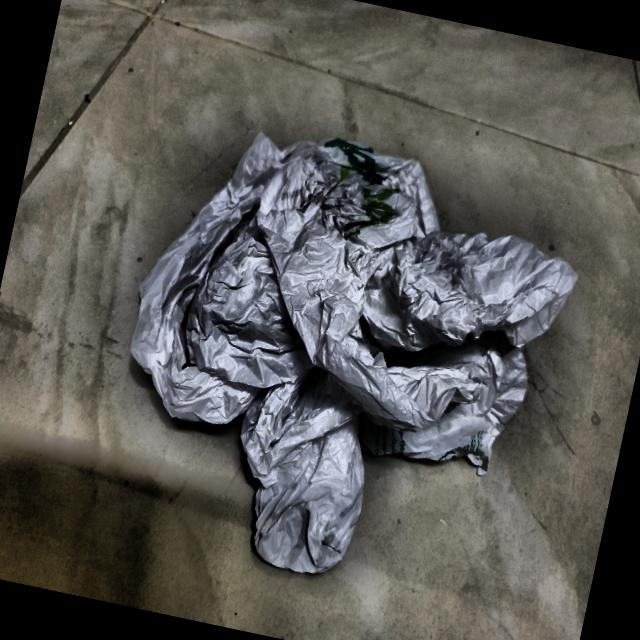plastic bag: (75, 83, 608, 632)
